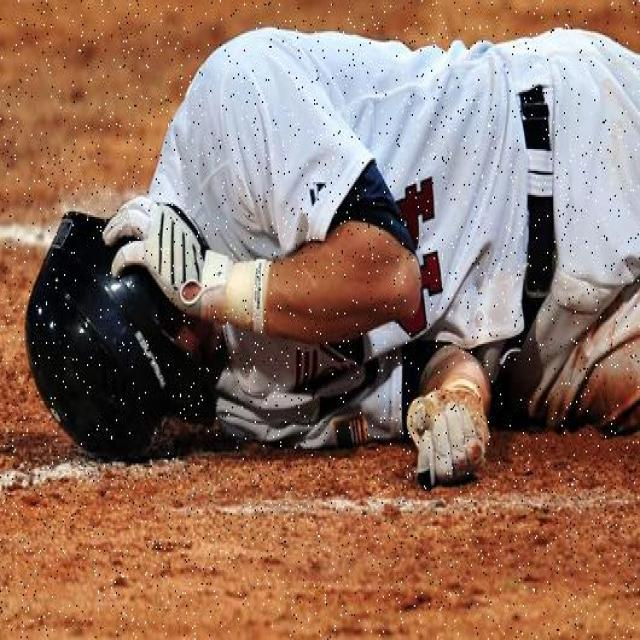fall: (37, 18, 638, 474)
